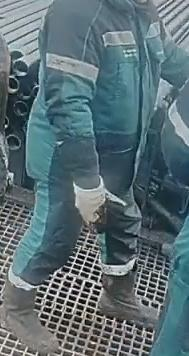gloves: (72, 175, 108, 227)
vest: (24, 0, 167, 182)
